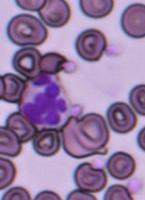N: (20, 72, 70, 127)
